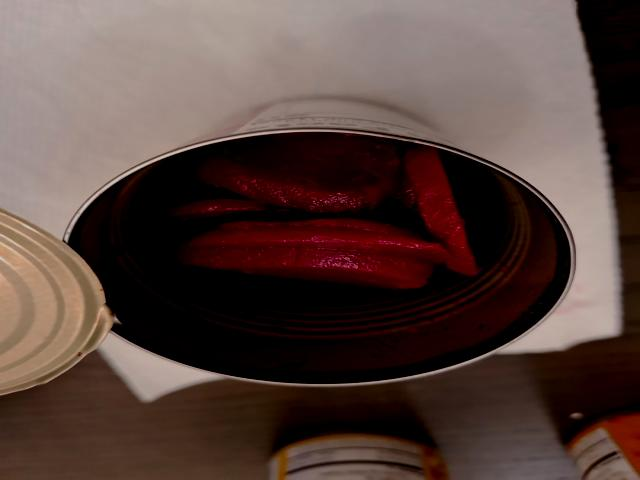kichen waste: (159, 134, 488, 292)
